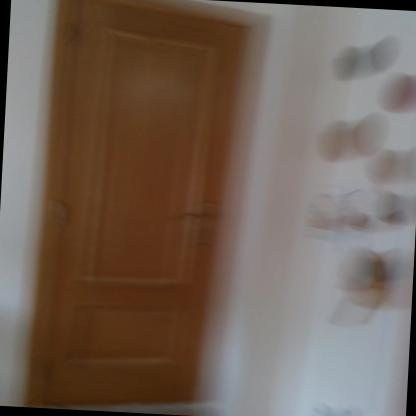closed: (19, 0, 277, 404)
